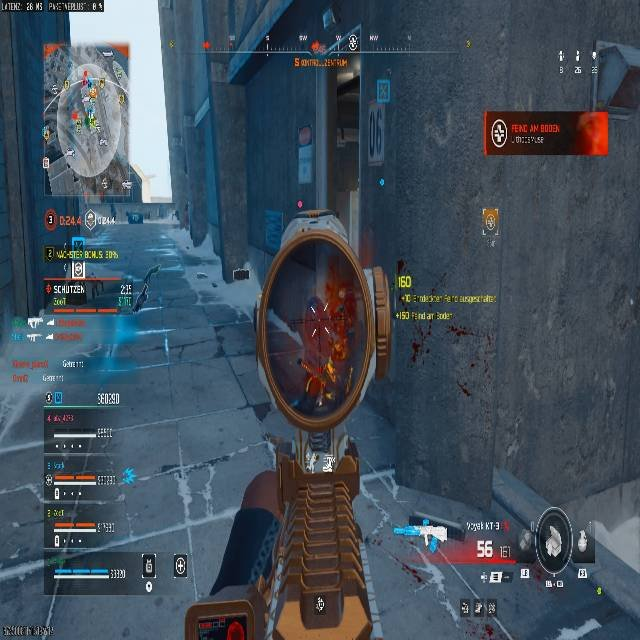player: (409, 327, 429, 366)
